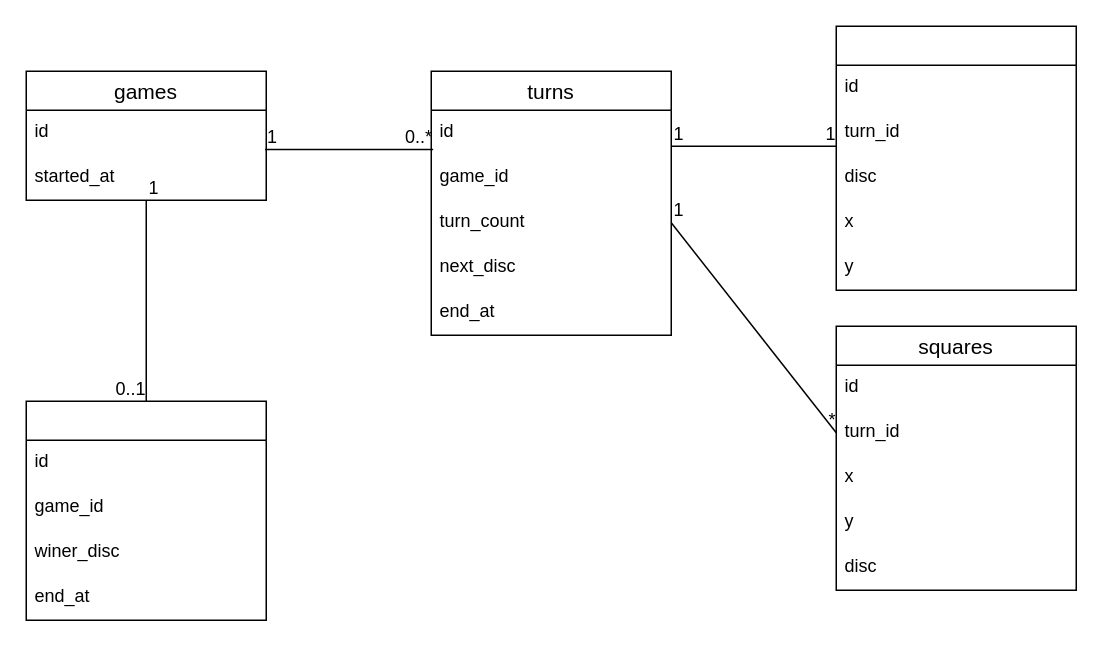
This 1103x651 diagram has some shape labels left out. Each missing label, with the box of its shape:
game_result: (25, 400, 266, 620)
moves: (835, 25, 1076, 290)
